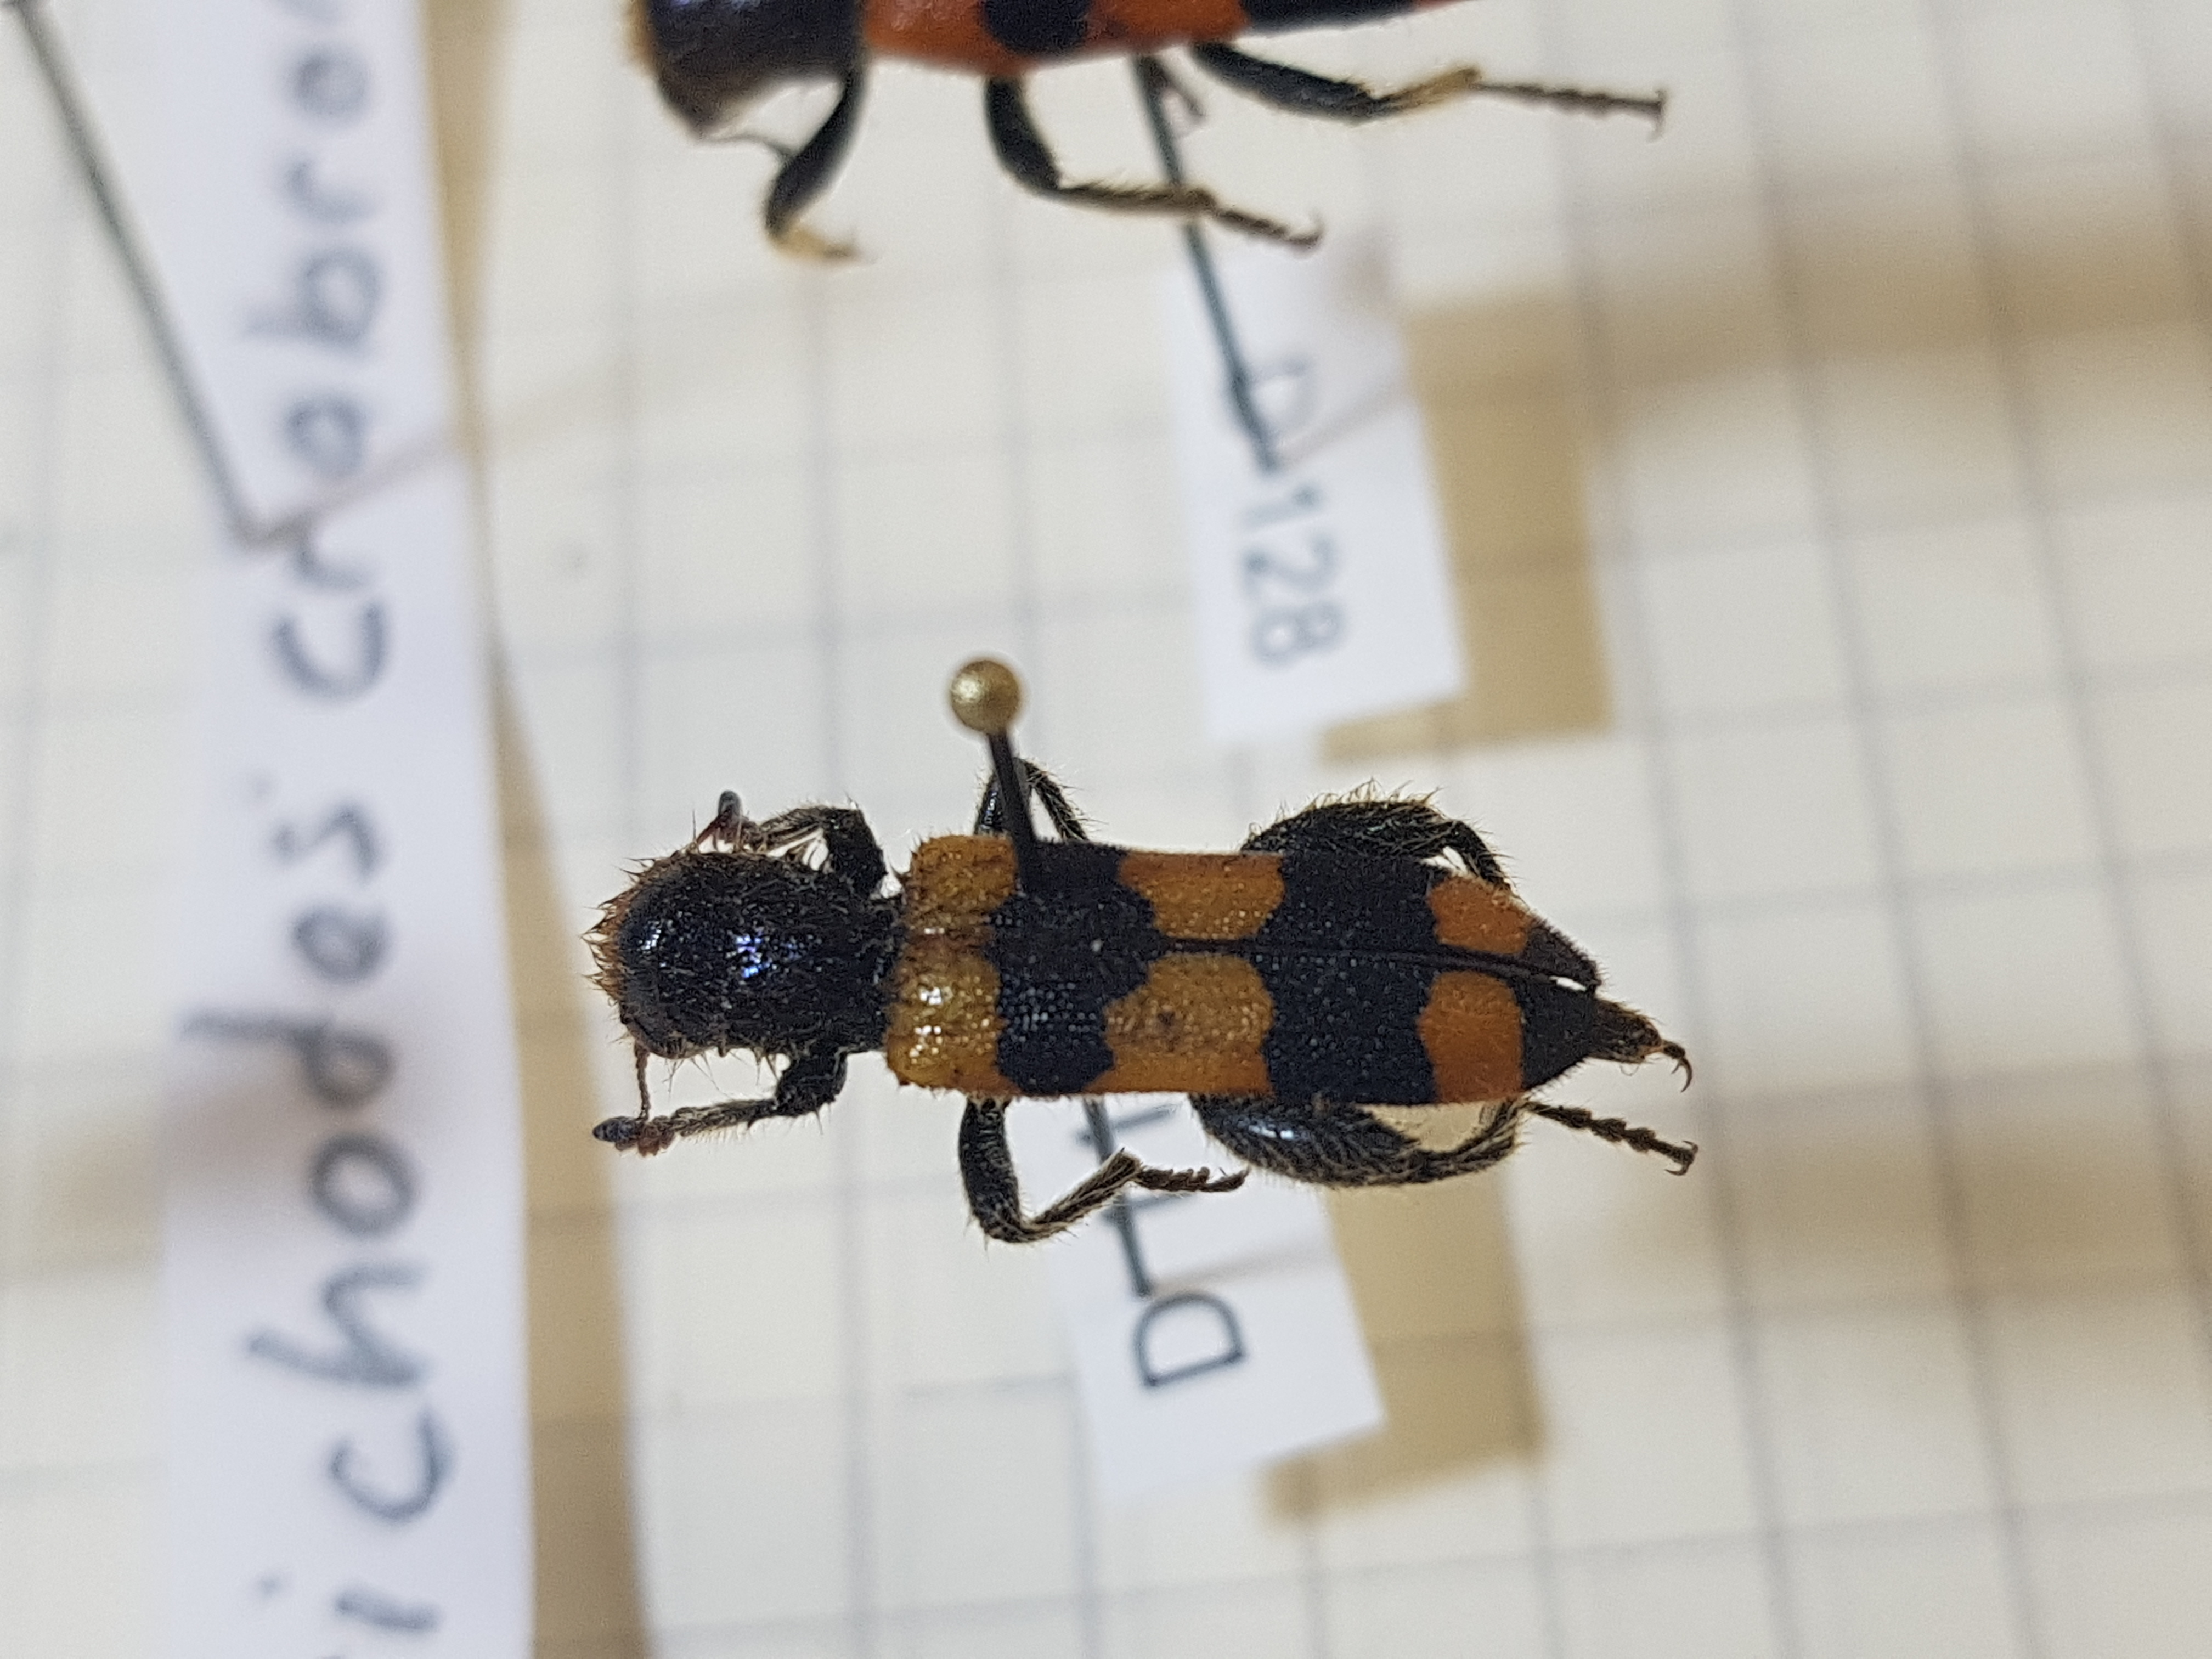trichodes_crabroniformis: (564, 763, 1712, 1274)
